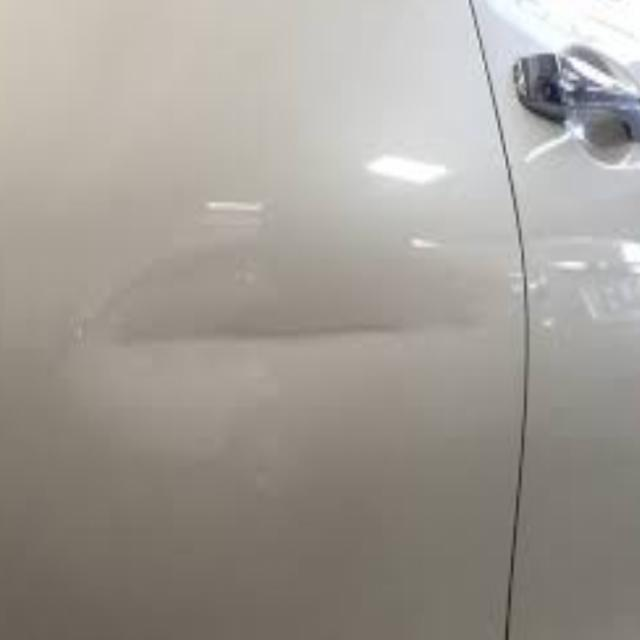dents: (77, 235, 523, 412)
